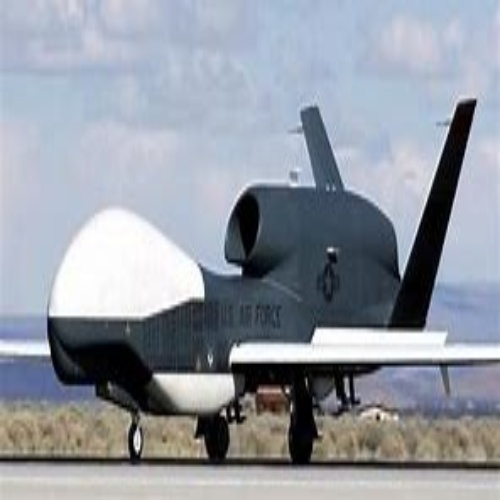uav501: (1, 96, 500, 465)
